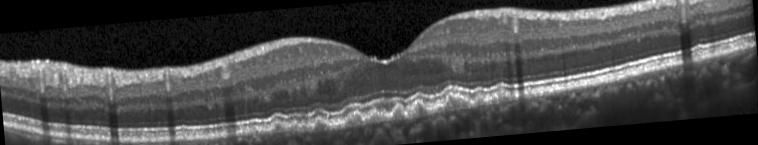retinal_drusen: (436, 94, 471, 110), (486, 92, 514, 104), (269, 122, 293, 133), (363, 111, 387, 122), (344, 112, 361, 127), (313, 118, 327, 130), (523, 89, 538, 100), (391, 107, 404, 119), (414, 101, 426, 114), (476, 97, 485, 107), (292, 123, 300, 131), (301, 124, 307, 131), (308, 123, 312, 130)
